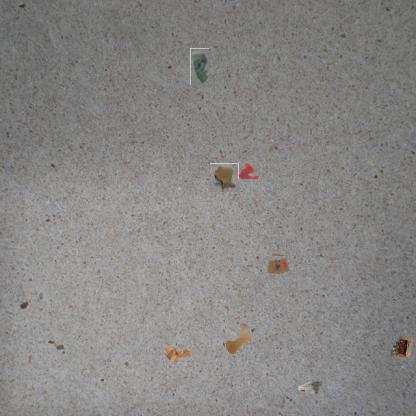dirty: (210, 163, 238, 192), (387, 334, 415, 362), (164, 344, 196, 366), (190, 48, 209, 85), (298, 380, 324, 401), (268, 253, 290, 277), (45, 336, 65, 356)
liquid: (224, 320, 254, 354), (238, 162, 259, 180)
